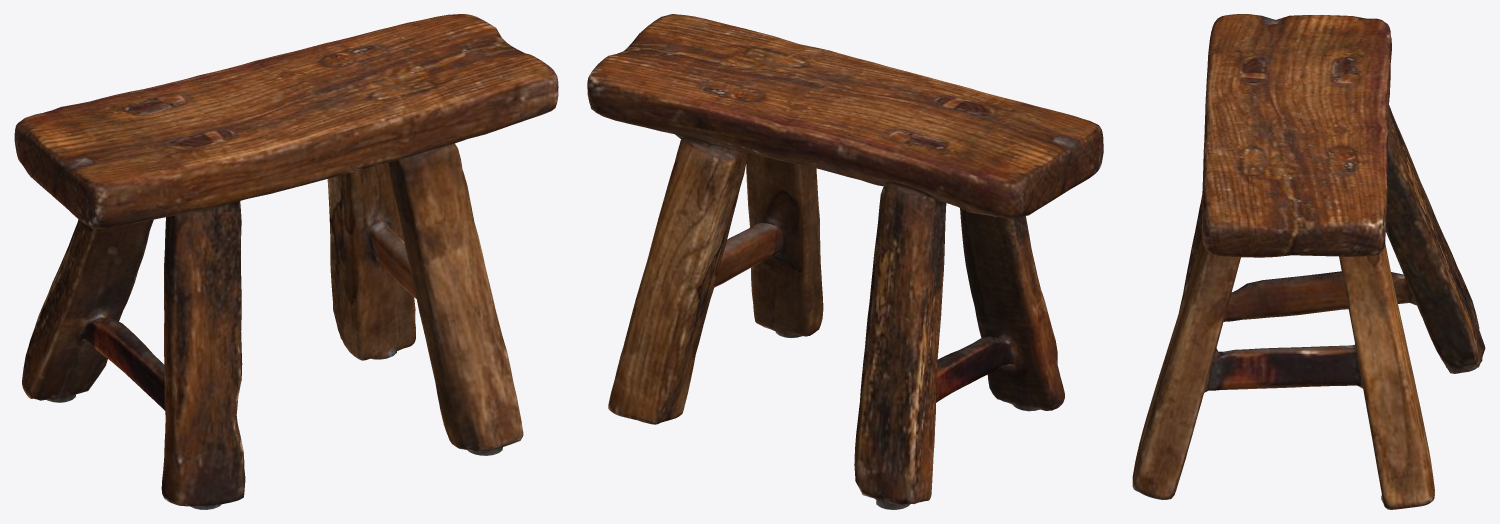
File: stool-wooden-02.e127cde3.glb
3 views of the same model, side by side, from view 1: azimuth 30°, elevation 25°; view 2: azimuth 150°, elevation 25°; view 3: azimuth 270°, elevation 25° (orthographic). The views are drawn at different scales.
Parts seen in each view (by area): view 1: model; view 2: model; view 3: model.
Part boxes in pixels (x1,y1,x2,y2): model: [14, 14, 558, 509]; model: [587, 14, 1103, 509]; model: [1132, 14, 1485, 509].
Size of the model in its own units: 0.2652 by 0.1819 by 0.1831.
1 material, 1 textured.
